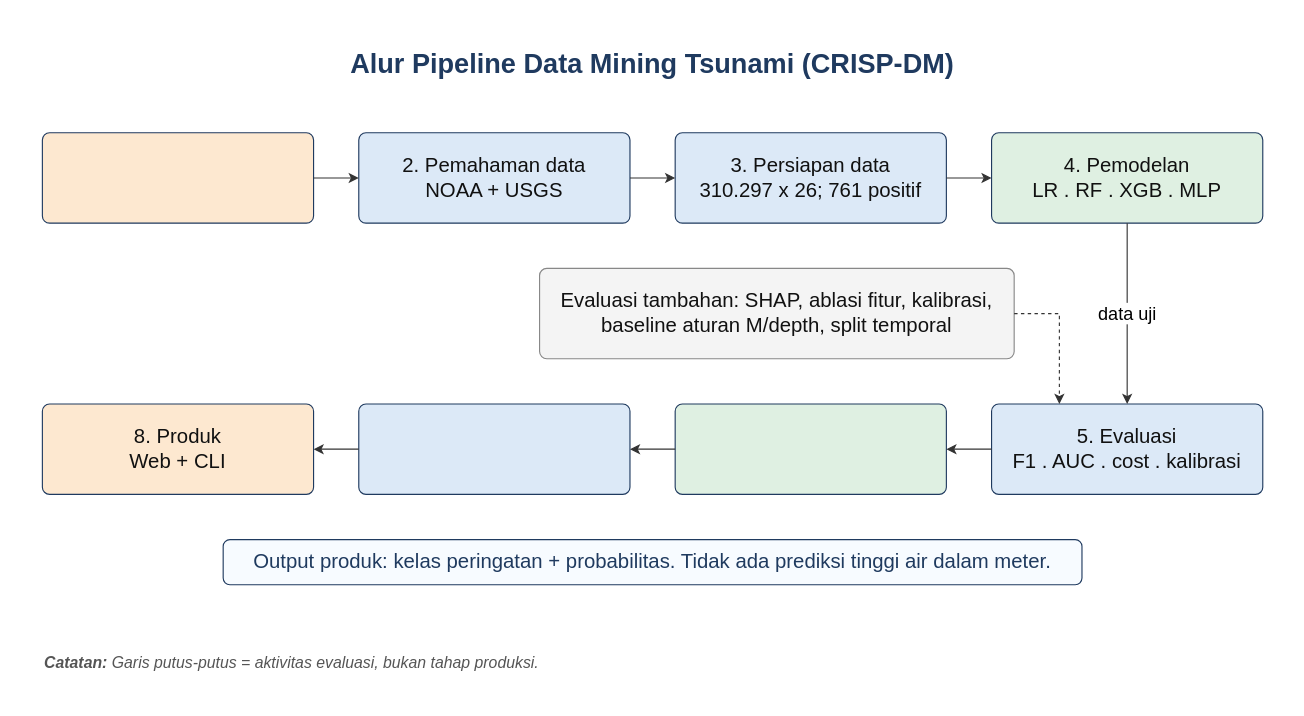
This 1304x716 diagram has some shape labels left out. The shapes that lost their labels are listed below. From the top down, each one's box as (x1, y1, x2, y2) in pixels, then its label:
(41, 132, 314, 223): 1. Pemahaman masalah Alarm palsu TEWS
(358, 403, 630, 494): 7. Deployment ambang per model
(674, 403, 946, 494): 6. Estimasi ordinal Waspada . Siaga . Awas
